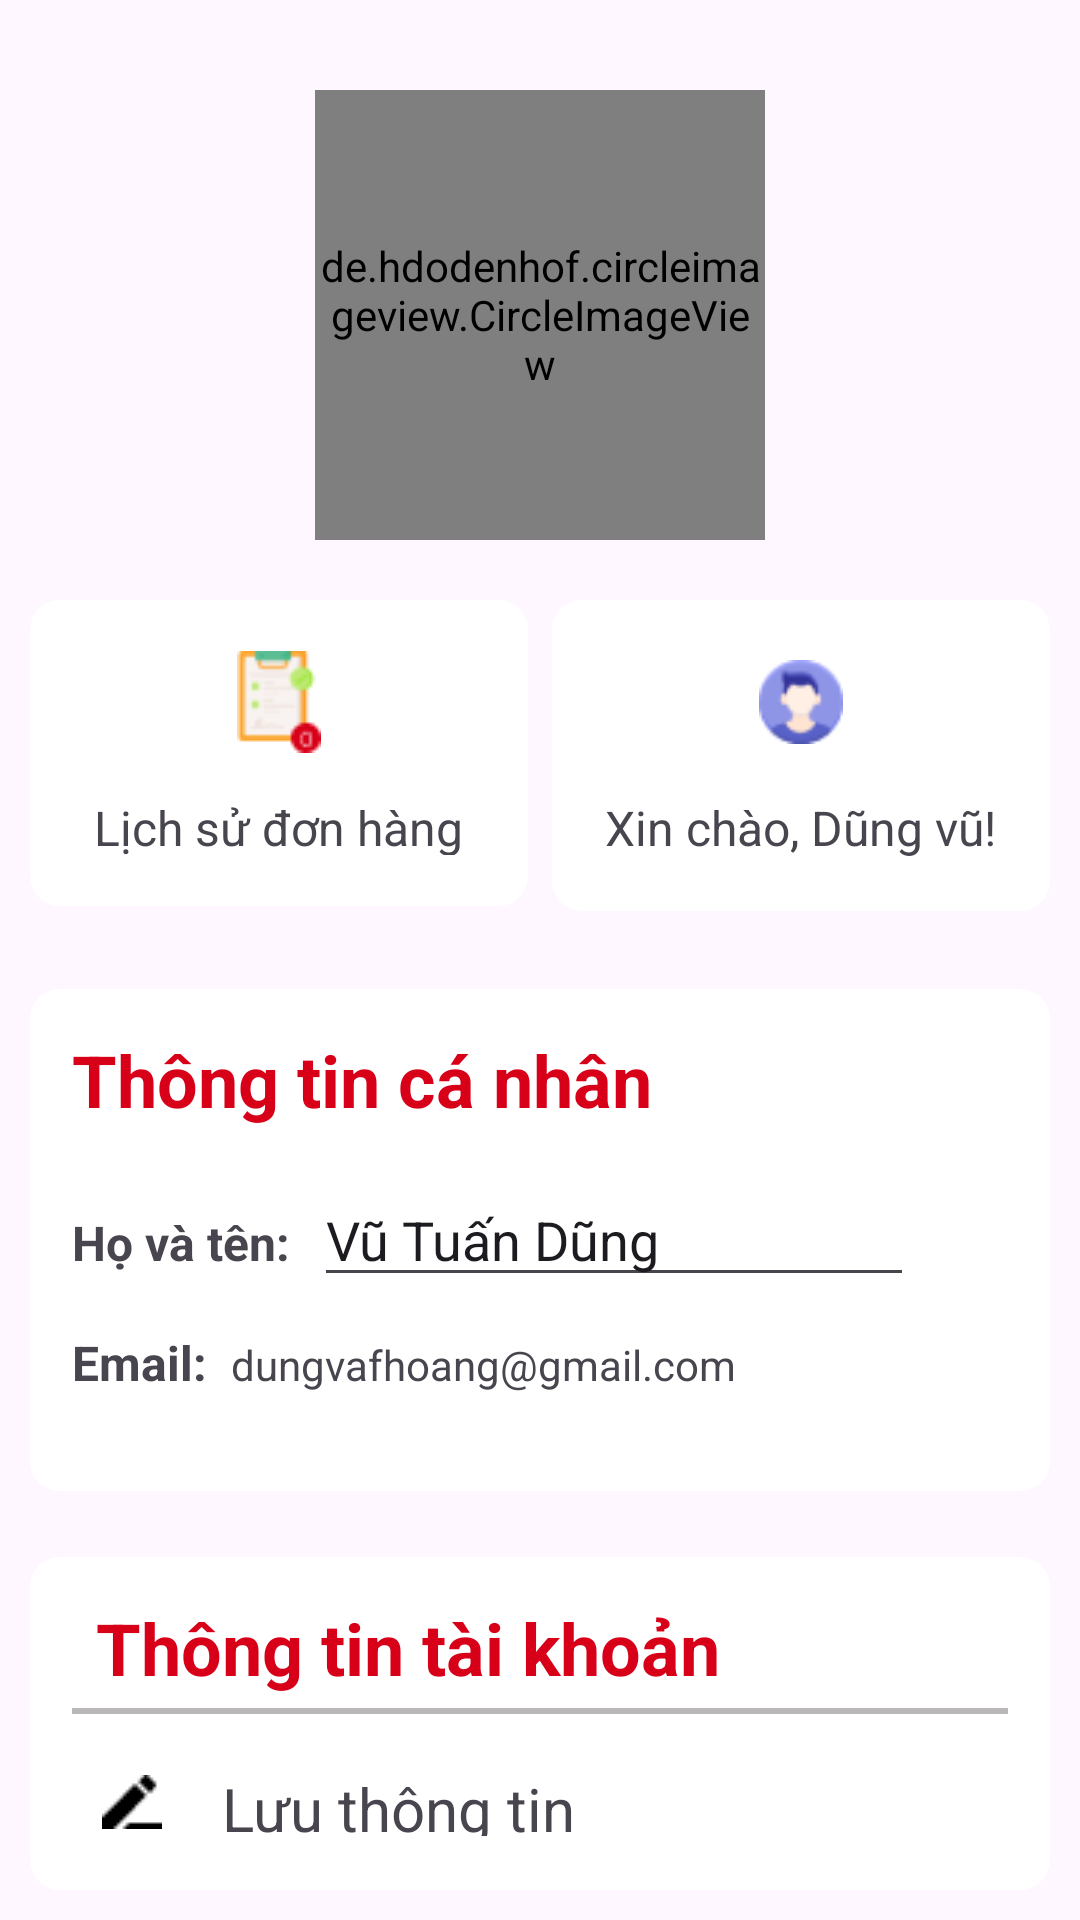

Point at icon controls on the screen. Image size 1080*1920, points as [x,y].
listbill: [279,702]
